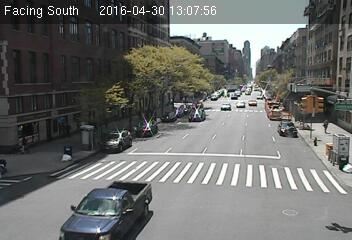neg: (189, 103, 207, 127), (56, 34, 74, 58), (30, 50, 48, 73), (322, 142, 337, 164), (282, 120, 297, 139), (117, 97, 132, 116), (103, 34, 117, 53), (94, 59, 107, 76), (306, 132, 318, 148), (242, 82, 251, 94)
pos: (15, 136, 29, 154), (321, 117, 333, 134), (62, 123, 73, 139)
